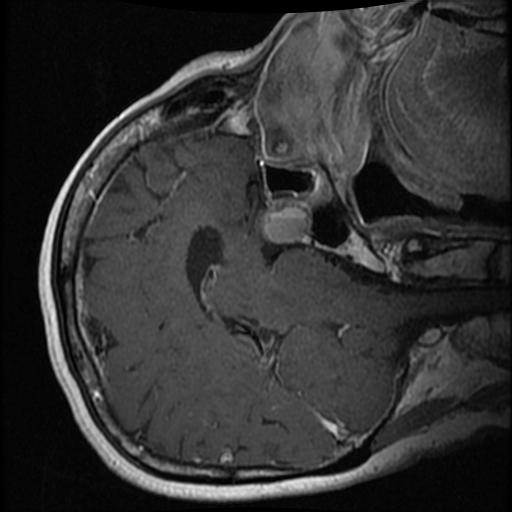pituitary tumour: (264, 209, 306, 243)
